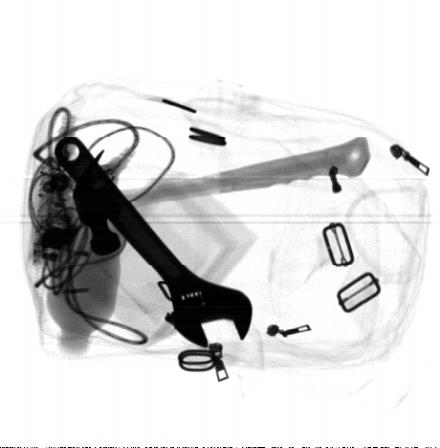Hammer: (73, 137, 373, 253)
Wrench: (55, 136, 254, 349)
